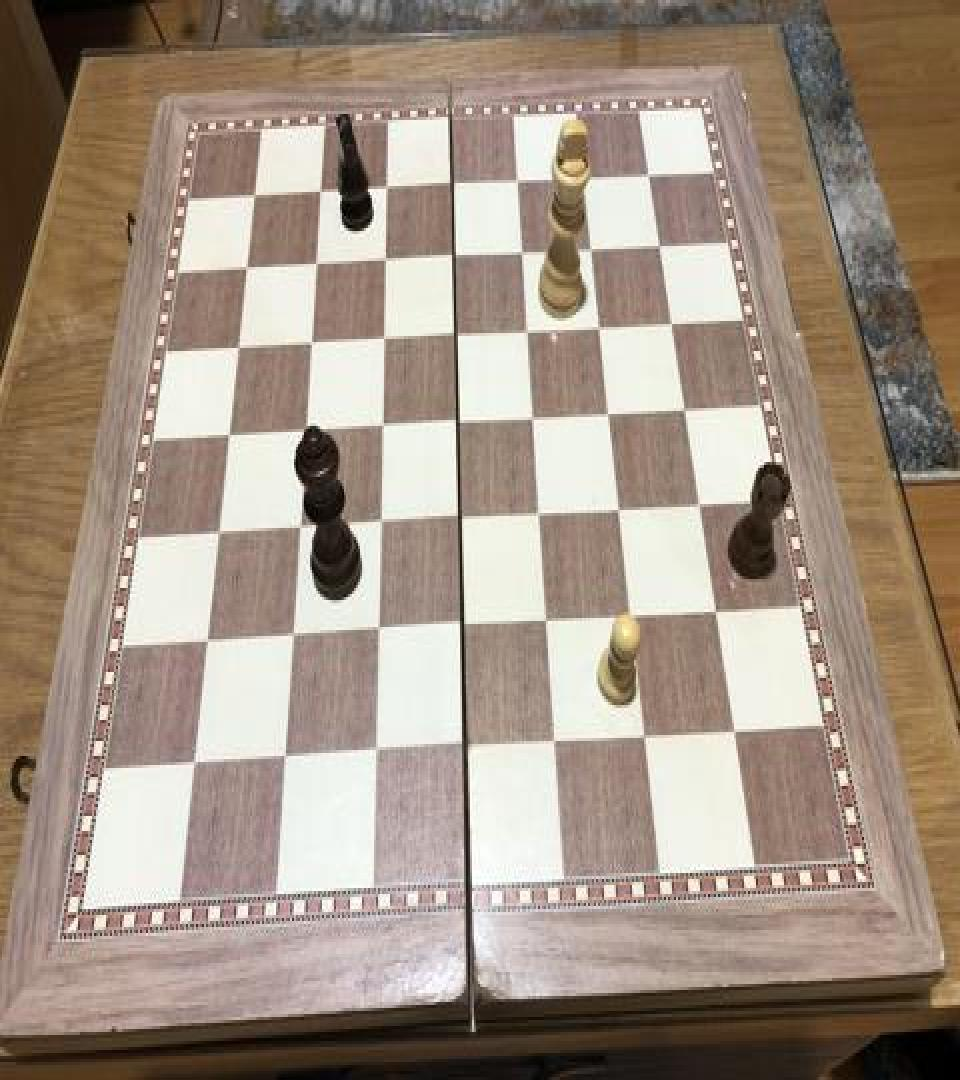xcorner: (535, 610, 559, 647), (195, 631, 219, 668), (363, 742, 387, 779), (273, 748, 297, 785), (640, 156, 664, 192), (573, 160, 597, 196), (506, 165, 530, 201), (440, 170, 464, 206), (373, 174, 397, 210), (307, 178, 331, 214), (240, 183, 264, 219), (650, 228, 674, 264), (581, 234, 605, 270), (511, 238, 535, 274), (441, 243, 465, 279), (372, 248, 396, 284), (302, 252, 326, 288), (233, 256, 257, 292), (662, 308, 686, 344), (589, 314, 613, 350), (516, 318, 540, 354), (443, 322, 467, 358), (370, 327, 394, 363), (298, 332, 322, 368), (225, 338, 249, 374), (675, 396, 699, 432), (599, 400, 623, 436), (522, 405, 546, 441), (445, 411, 469, 447), (369, 416, 393, 452), (292, 420, 316, 456), (216, 426, 240, 462), (690, 492, 714, 528), (609, 496, 633, 532), (528, 502, 552, 538), (448, 507, 472, 543), (367, 513, 391, 549), (287, 518, 311, 554), (206, 524, 230, 560), (706, 600, 730, 636), (620, 604, 644, 640), (450, 615, 474, 651), (365, 621, 389, 657), (280, 627, 304, 663), (724, 720, 748, 756), (633, 724, 657, 760), (543, 730, 567, 766), (453, 736, 477, 772), (183, 753, 207, 789)
